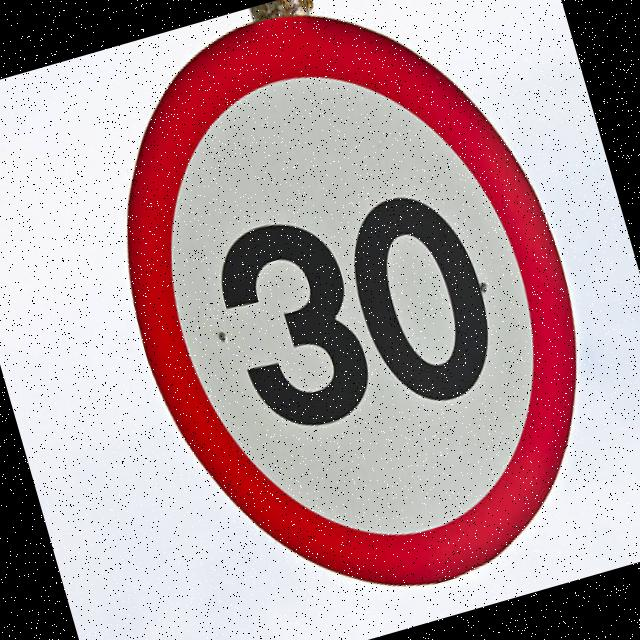speed_limit_30: (58, 0, 639, 640)
